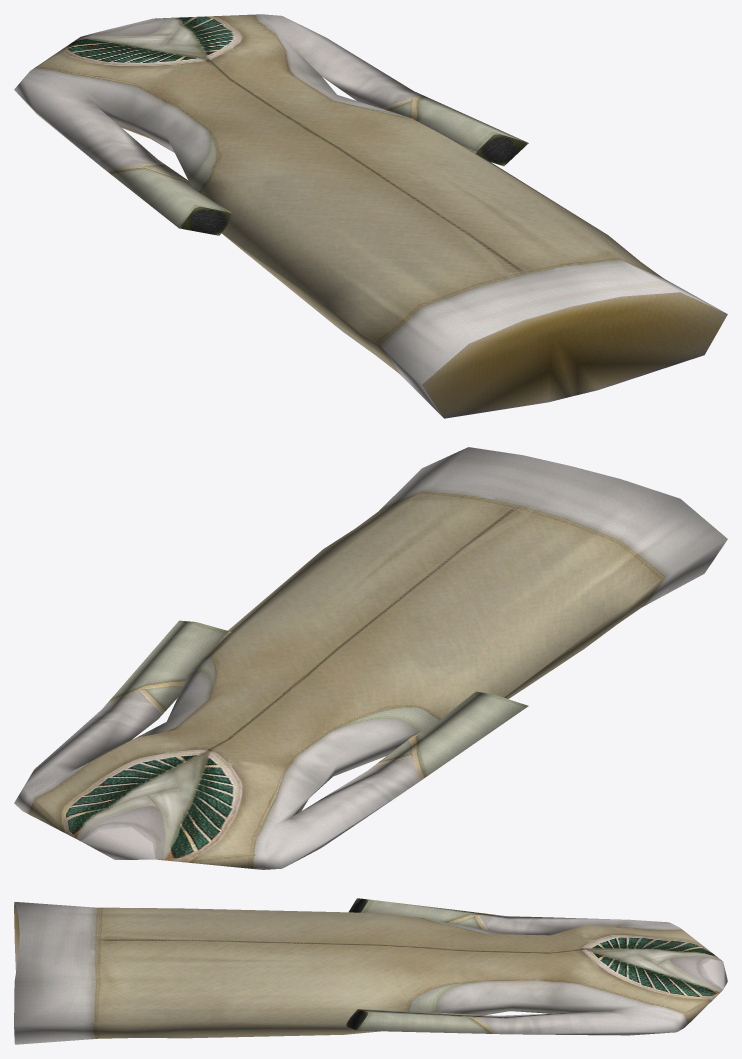
The model's file is f_Torso4.glb.
3 renders of one model, top to bottom at view 1: azimuth 30°, elevation 25°; view 2: azimuth 150°, elevation 25°; view 3: azimuth 270°, elevation 25°, orthographic. The views are drawn at different scales.
Visible parts, largest first — view 1: Torso4; view 2: Torso4; view 3: Torso4.
Boxes of the visible parts, x1,y1,x2,y2 form: Torso4: [14, 14, 727, 418]; Torso4: [14, 447, 727, 869]; Torso4: [14, 898, 727, 1044].
Bounding box in the file's own units: 29.43 × 7.1 × 66.99.
Materials: 1 (1 with a texture image).
